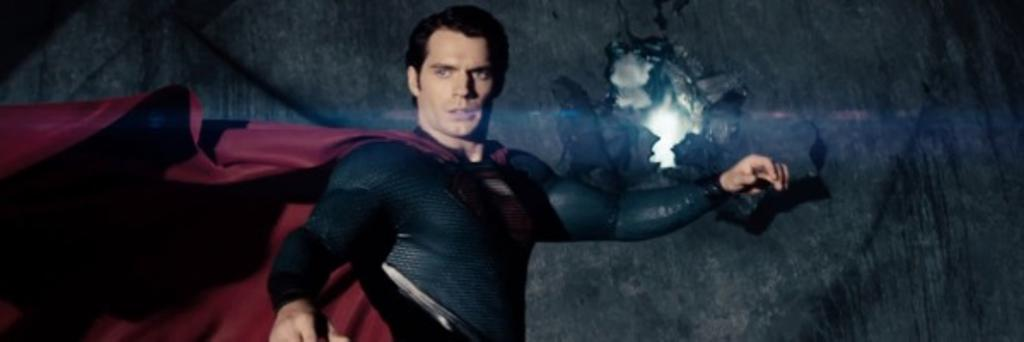face: (424, 30, 498, 138)
